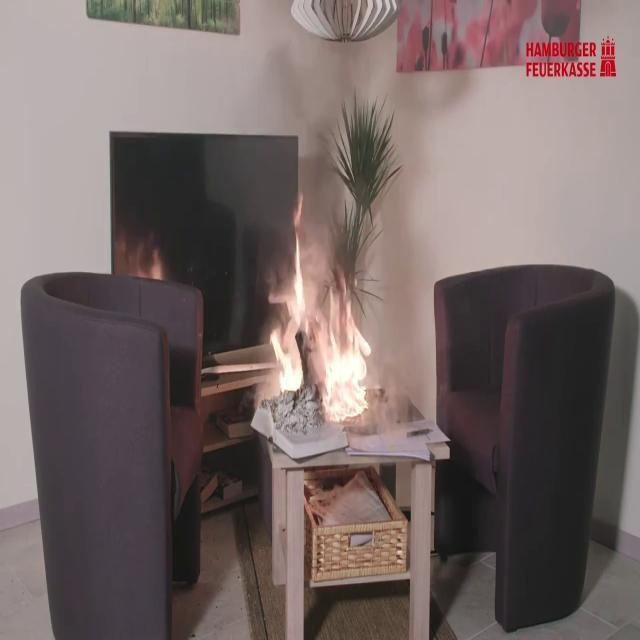fire: (263, 192, 393, 421)
